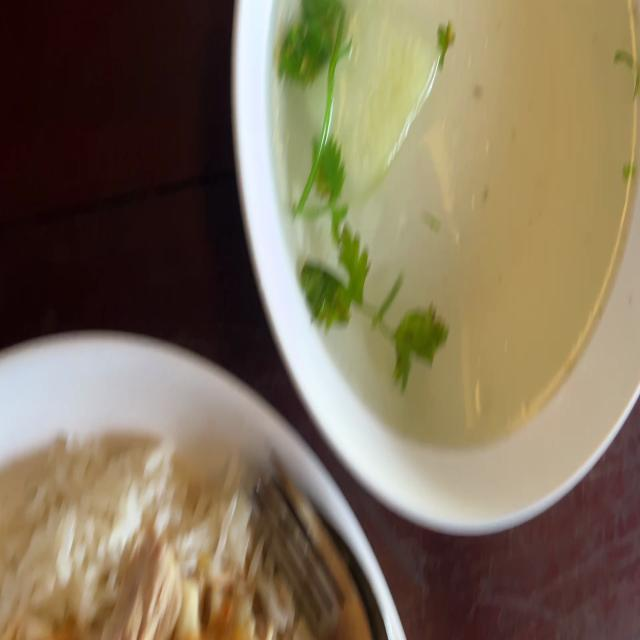boiled_chicken: (63, 531, 278, 640)
chicken_rice: (0, 429, 304, 640)
